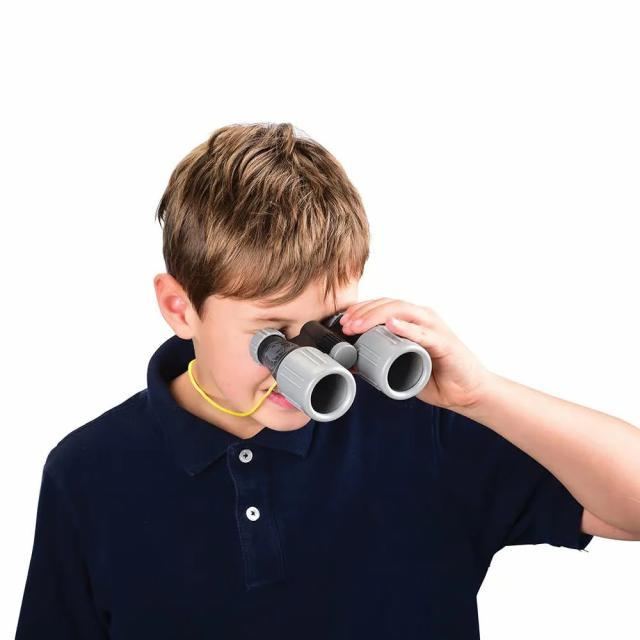Binocular: (243, 305, 442, 431)
